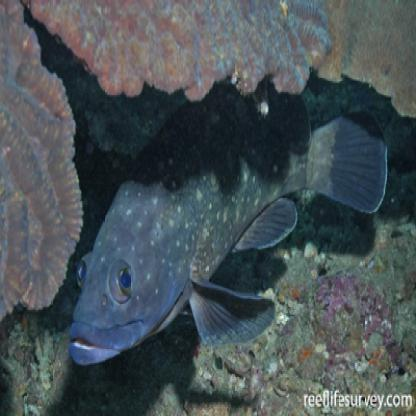grouper: (65, 65, 389, 372)
